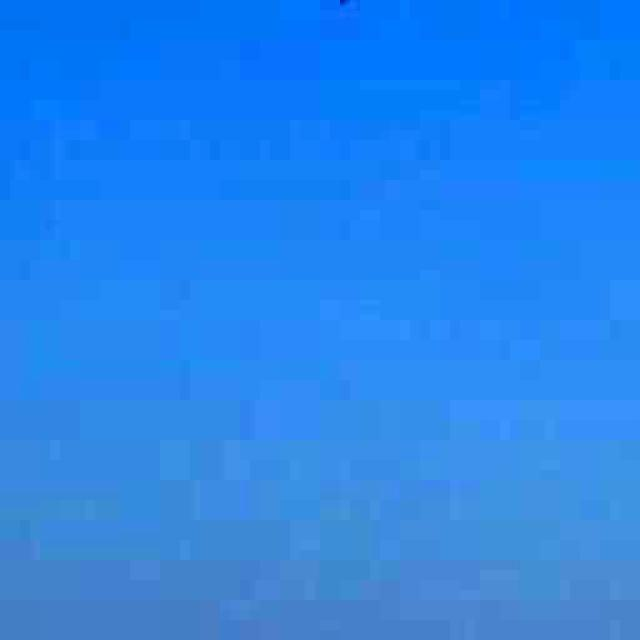bird: (289, 0, 419, 29)
